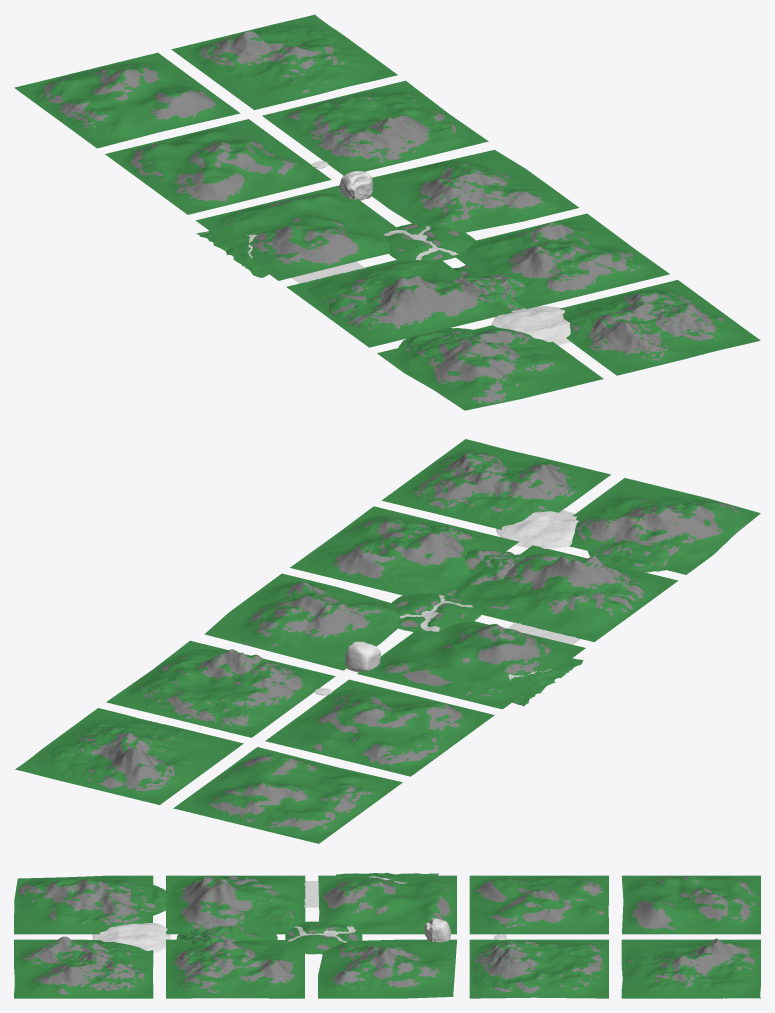
Rendered from Terrain.fbx.
3 renders of one model, top to bottom at view 1: azimuth 30°, elevation 25°; view 2: azimuth 150°, elevation 25°; view 3: azimuth 270°, elevation 25°, orthographic. The views are drawn at different scales.
Visible parts, largest first — view 1: Landscape.002, Landscape.008, Landscape.003, Landscape.007, Landscape.005, Landscape.006, Landscape.004, Landscape.009, Landscape.001, Landscape, Terrain 5, Terrain 1 (+5 smaller); view 2: Landscape.002, Landscape.008, Landscape.007, Landscape.003, Landscape.005, Landscape.006, Landscape.004, Landscape.009, Landscape, Landscape.001, Terrain 5, Terrain 1 (+5 smaller); view 3: Landscape.002, Landscape.008, Landscape.007, Landscape.003, Landscape.005, Landscape.006, Landscape.009, Landscape, Landscape.004, Landscape.001, Terrain 5, Terrain 1 (+6 smaller).
Boxes of the visible parts, x1,y1,x2,y2 form: Landscape.002: (105,119,331,214); Landscape.008: (171,14,397,110); Landscape.003: (14,52,240,148); Landscape.007: (262,80,488,175); Landscape.005: (559,280,760,375); Landscape.006: (453,213,669,309); Landscape.004: (195,185,396,280); Landscape.009: (370,150,579,233); Landscape.001: (377,325,603,410); Landscape: (286,258,512,347); Terrain 5: (383,223,475,260); Terrain 1: (491,306,570,345); Landscape.002: (265,679,494,776); Landscape.008: (14,708,243,804); Landscape.007: (106,640,335,737); Landscape.003: (173,747,402,843); Landscape.005: (382,439,610,529); Landscape.006: (290,506,519,595); Landscape.004: (357,620,585,709); Landscape.009: (205,573,400,670); Landscape: (458,545,677,642); Landscape.001: (569,478,760,574); Terrain 5: (391,593,480,632); Terrain 1: (496,510,578,549); Landscape.002: (469,875,608,934); Landscape.008: (621,938,760,998); Landscape.007: (469,939,608,998); Landscape.003: (621,875,760,934); Landscape.005: (14,936,153,998); Landscape.006: (166,939,304,998); Landscape.009: (318,939,456,998); Landscape: (166,875,305,934); Landscape.004: (318,875,456,934); Landscape.001: (14,875,153,934); Terrain 5: (285,921,362,954); Terrain 1: (92,923,170,953).
Bounding box in the file's own units: 95441 × 10736 × 236000.
